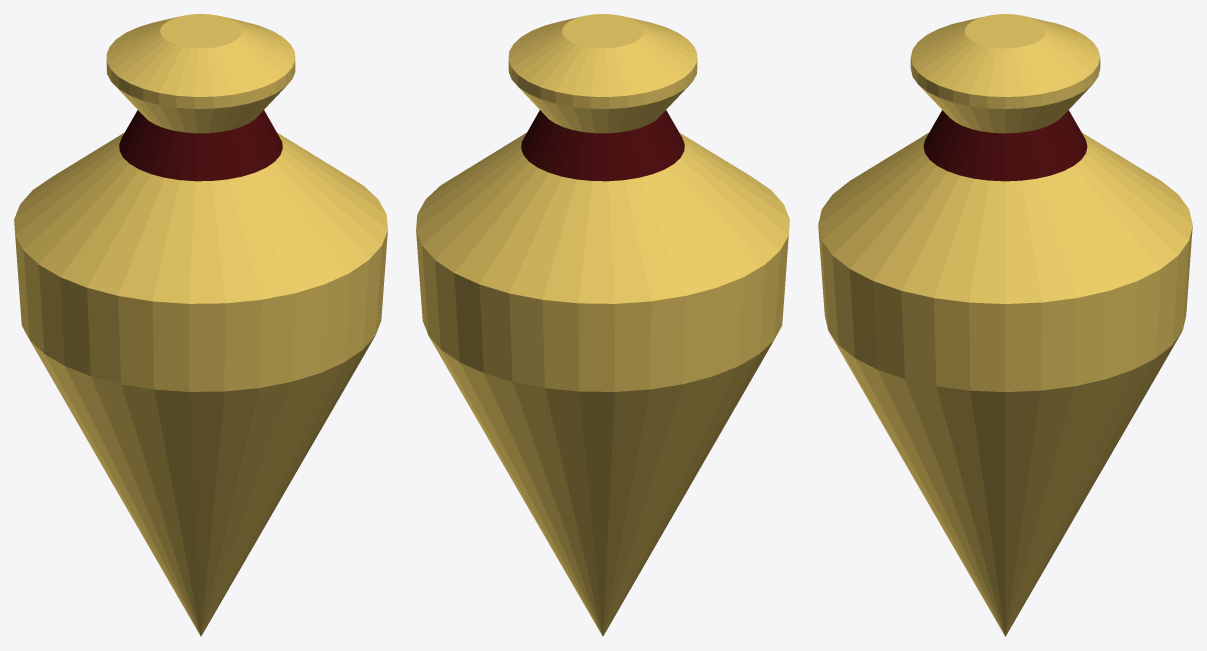
Rendered from iksir7.fbx.
3 renders of one model, left to right at view 1: azimuth 30°, elevation 25°; view 2: azimuth 150°, elevation 25°; view 3: azimuth 270°, elevation 25°, orthographic.
Visible parts, largest first — view 1: iksir7; view 2: iksir7; view 3: iksir7.
Boxes of the visible parts, x1,y1,x2,y2 form: iksir7: [14, 14, 387, 636]; iksir7: [416, 14, 789, 636]; iksir7: [818, 14, 1192, 636].
Bounding box in the file's own units: 268 × 479 × 268.
